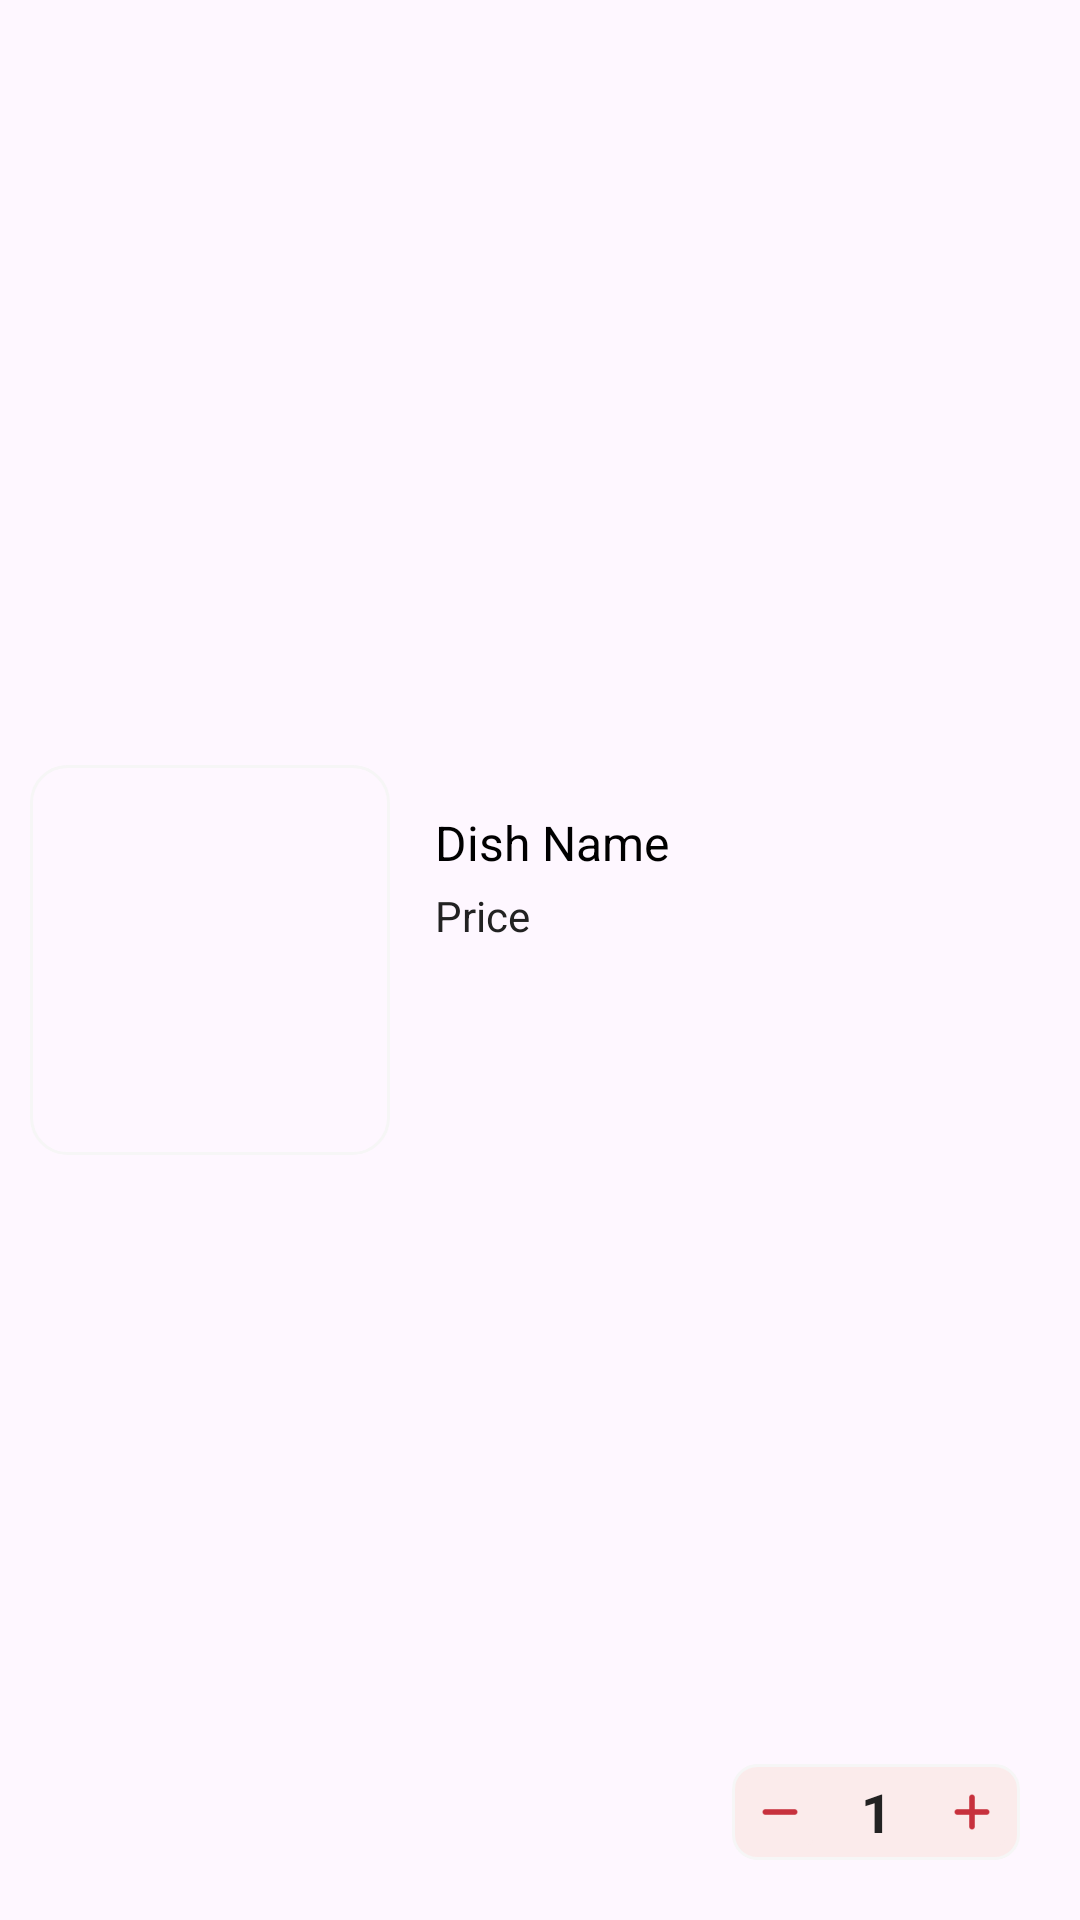

Named icons in this screenshot (1080w x 1920h) and their centers, (x=x, y=y):
decrease: (x=780, y=1812)
increase: (x=972, y=1812)
